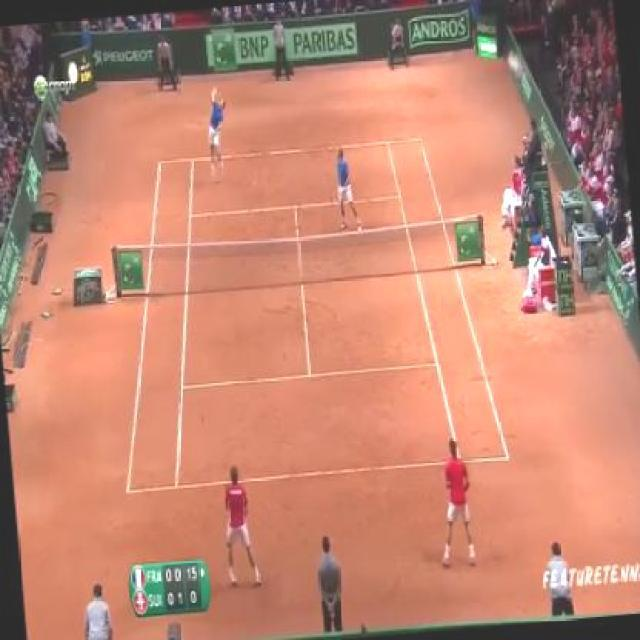non-fight: (432, 436, 478, 570), (218, 461, 262, 587), (198, 77, 233, 185), (327, 140, 364, 237)
